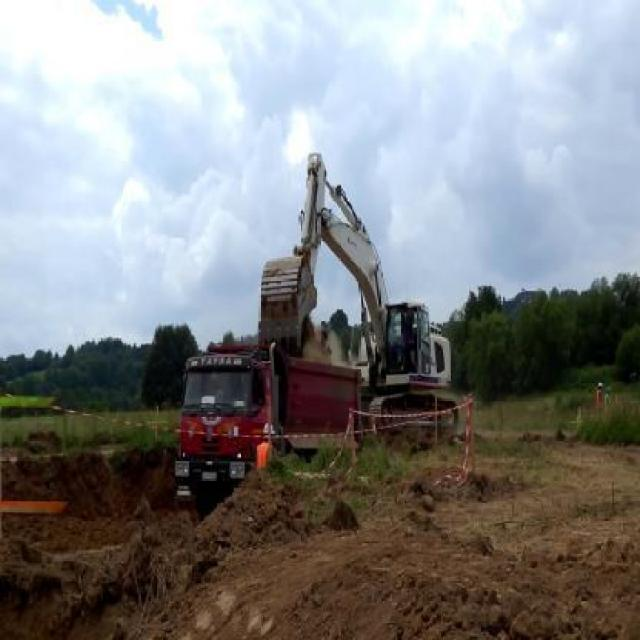Dump Truck: (170, 334, 364, 508)
Excavator: (256, 144, 458, 438)
